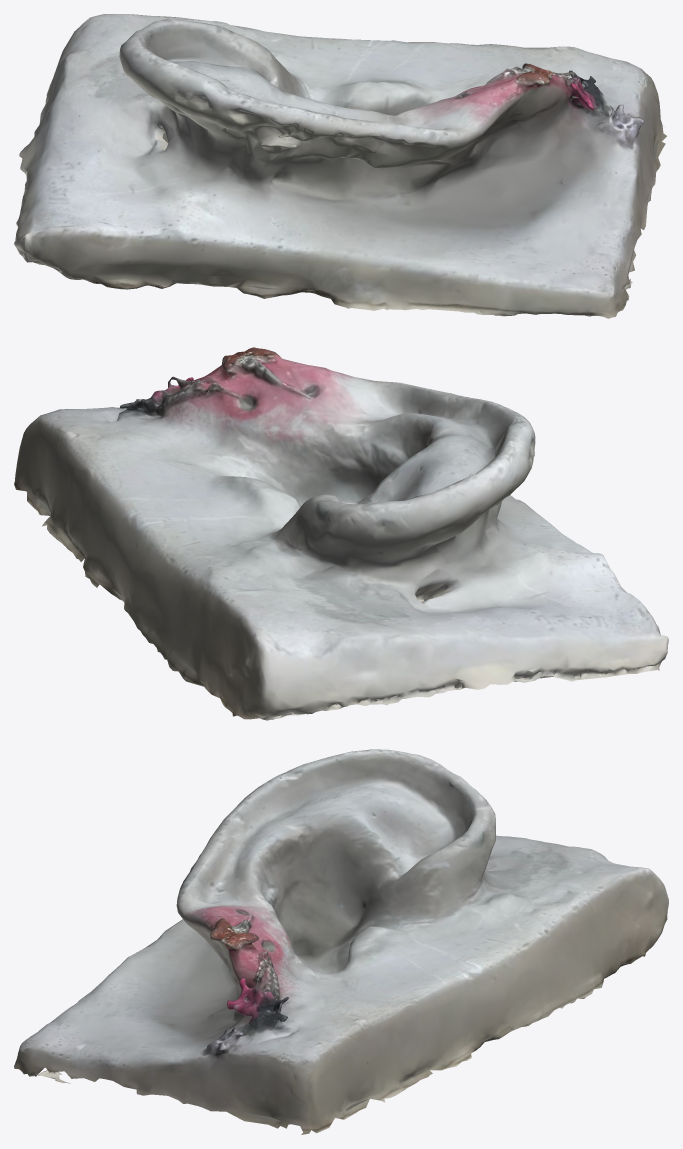
The picture shows the model from 3 angles, top to bottom: view 1: azimuth 30°, elevation 25°; view 2: azimuth 150°, elevation 25°; view 3: azimuth 270°, elevation 25°; orthographic projection. The views are drawn at different scales.
Parts seen in each view (by area): view 1: Mesh_0; view 2: Mesh_0; view 3: Mesh_0.
Boxes of the visible parts, x1,y1,x2,y2 form: Mesh_0: (14, 14, 666, 318); Mesh_0: (14, 347, 668, 720); Mesh_0: (14, 749, 668, 1134).
Size of the model in its own units: 1.99 by 0.5995 by 1.88.
Materials: 5 (4 with a texture image).
